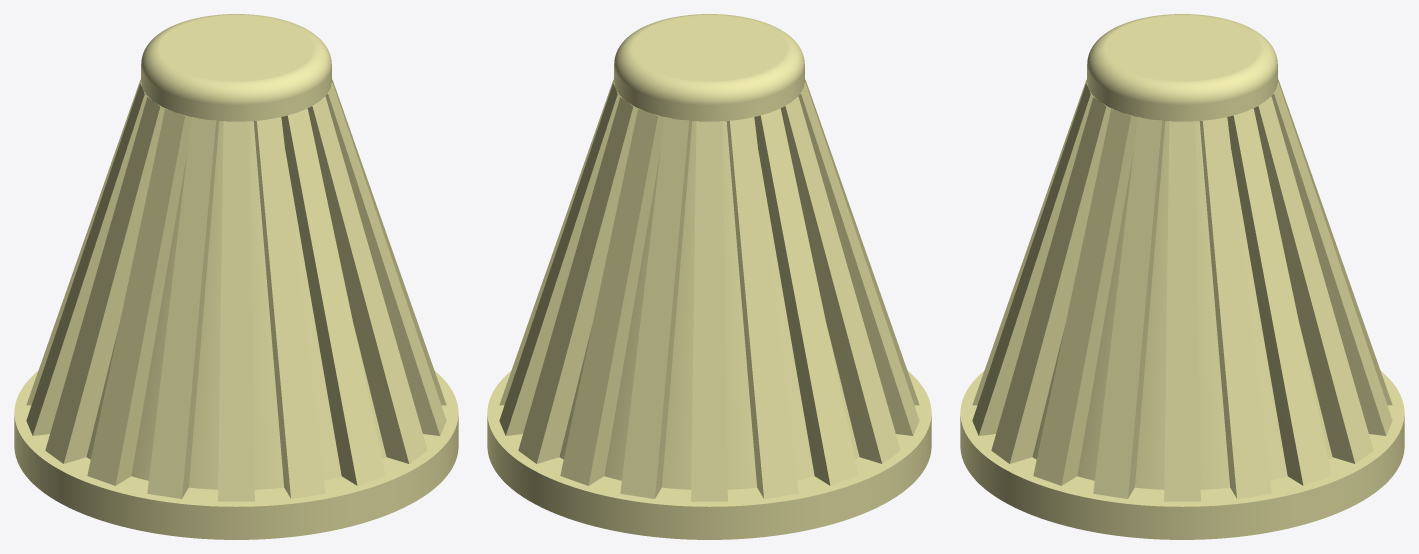
The model's file is air_filter.glb.
The picture shows the model from 3 angles, left to right: view 1: azimuth 30°, elevation 25°; view 2: azimuth 150°, elevation 25°; view 3: azimuth 270°, elevation 25°; orthographic projection.
Parts seen in each view (by area): view 1: =>[0:1:1:2]; view 2: =>[0:1:1:2]; view 3: =>[0:1:1:2].
Boxes of the visible parts, x1,y1,x2,y2 form: =>[0:1:1:2]: (14, 14, 458, 539); =>[0:1:1:2]: (487, 14, 931, 539); =>[0:1:1:2]: (960, 14, 1404, 539).
Bounding box in the file's own units: 0.17 × 0.168 × 0.1699.
